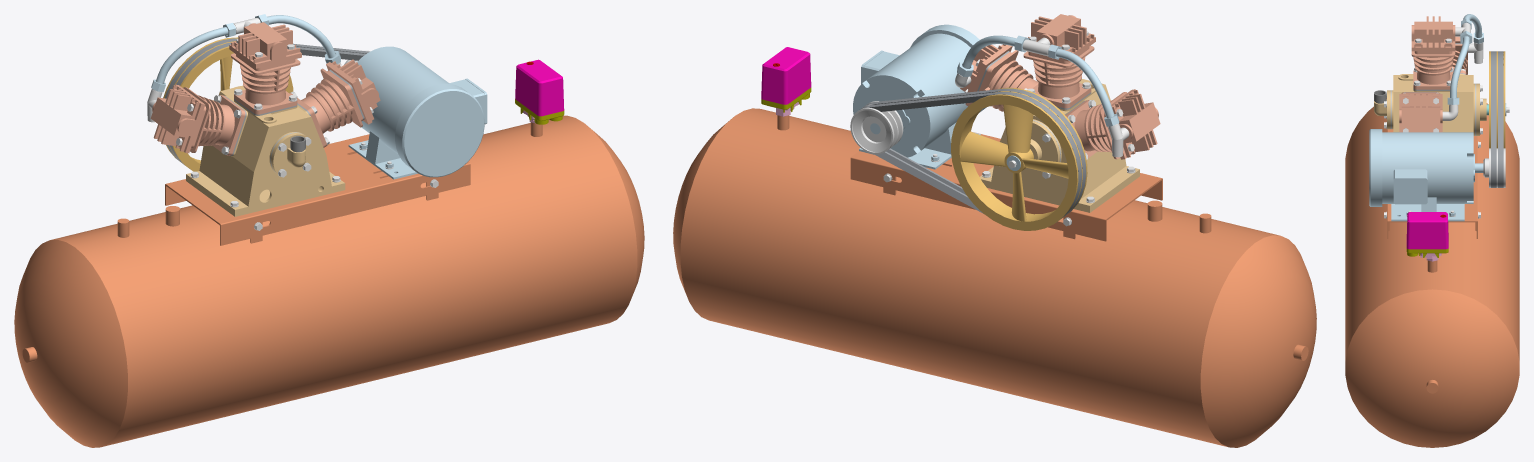
The picture shows the model from 3 angles, left to right: view 1: azimuth 30°, elevation 25°; view 2: azimuth 150°, elevation 25°; view 3: azimuth 270°, elevation 25°; orthographic projection. The views are drawn at different scales.
Parts seen in each view (by area): view 1: TANQUE, MOTOR, TANQUE-BASE, CAJA, CABEZAL3, CABEZAL2, CABEZAL1-TAPA, 3-Couvercle.001, CABEZAL2-TAPA, CABEZAL1, POLEA2, CABEZAL3-TAPA (+5 smaller); view 2: TANQUE, MOTOR, POLEA2, TANQUE-BASE, CAJA, CORREA2, 3-Couvercle.001, CABEZAL2, CABEZAL1-TAPA, POLEA1, CABEZAL2-TAPA, CORREA1 (+6 smaller); view 3: TANQUE, MOTOR, CAJA, CABEZAL3-TAPA, 3-Couvercle.001, CABEZAL2, CABEZAL2-TAPA, CORREA1, CORREA2, TANQUE-BASE, POLEA2, TUBO-ALETEADO1 (+8 smaller).
Part boxes in pixels (left/top/right/bottom): TANQUE: left=14, top=115, right=644, bottom=447; MOTOR: left=348, top=46, right=487, bottom=179; TANQUE-BASE: left=165, top=134, right=470, bottom=245; CAJA: left=186, top=85, right=345, bottom=216; CABEZAL3: left=289, top=68, right=363, bottom=147; CABEZAL2: left=231, top=53, right=300, bottom=114; CABEZAL1-TAPA: left=150, top=84, right=205, bottom=153; 3-Couvercle.001: left=515, top=59, right=564, bottom=116; CABEZAL2-TAPA: left=229, top=22, right=301, bottom=68; CABEZAL1: left=183, top=87, right=245, bottom=155; POLEA2: left=163, top=37, right=293, bottom=171; CABEZAL3-TAPA: left=326, top=59, right=380, bottom=124; TANQUE: left=673, top=108, right=1316, bottom=447; MOTOR: left=853, top=24, right=986, bottom=169; POLEA2: left=951, top=87, right=1087, bottom=230; TANQUE-BASE: left=850, top=131, right=1162, bottom=241; CAJA: left=980, top=79, right=1139, bottom=212; CORREA2: left=860, top=92, right=1081, bottom=222; 3-Couvercle.001: left=761, top=47, right=811, bottom=104; CABEZAL2: left=1023, top=45, right=1094, bottom=108; CABEZAL1-TAPA: left=1111, top=89, right=1160, bottom=159; POLEA1: left=850, top=101, right=903, bottom=154; CABEZAL2-TAPA: left=1027, top=14, right=1095, bottom=61; CORREA1: left=864, top=88, right=1086, bottom=218; TANQUE: left=1345, top=98, right=1519, bottom=447; MOTOR: left=1369, top=129, right=1483, bottom=221; CAJA: left=1392, top=74, right=1474, bottom=135; CABEZAL3-TAPA: left=1399, top=94, right=1442, bottom=132; 3-Couvercle.001: left=1406, top=212, right=1448, bottom=249; CABEZAL2: left=1411, top=51, right=1455, bottom=89; CABEZAL2-TAPA: left=1411, top=16, right=1455, bottom=51; CORREA1: left=1491, top=51, right=1496, bottom=187; CORREA2: left=1498, top=51, right=1503, bottom=187; TANQUE-BASE: left=1387, top=129, right=1477, bottom=238; POLEA2: left=1489, top=51, right=1505, bottom=148; TUBO-ALETEADO1: left=1447, top=31, right=1472, bottom=104.
Bounding box in the file's own units: 1.32 × 0.75 × 0.4013.
